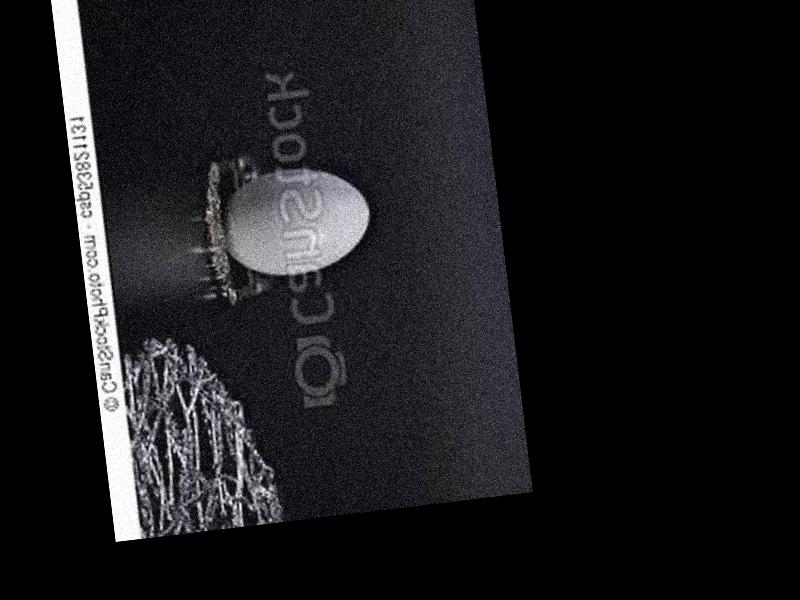Eggs: (217, 160, 375, 283)
